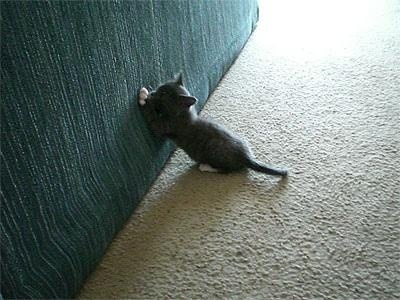cat: (137, 72, 290, 182)
